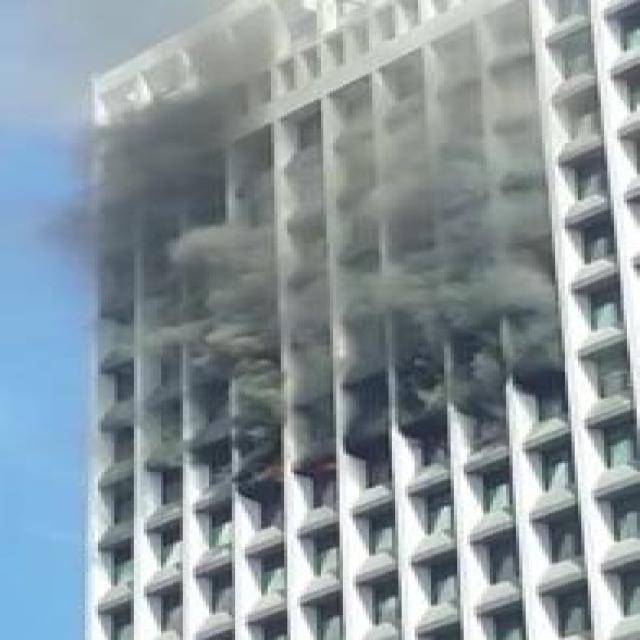Smoke: (38, 37, 580, 412)
